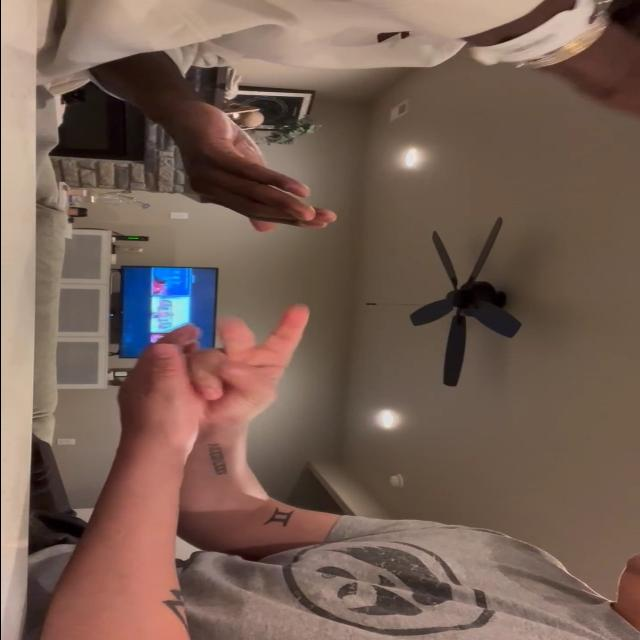Scissors: (185, 306, 307, 426)
